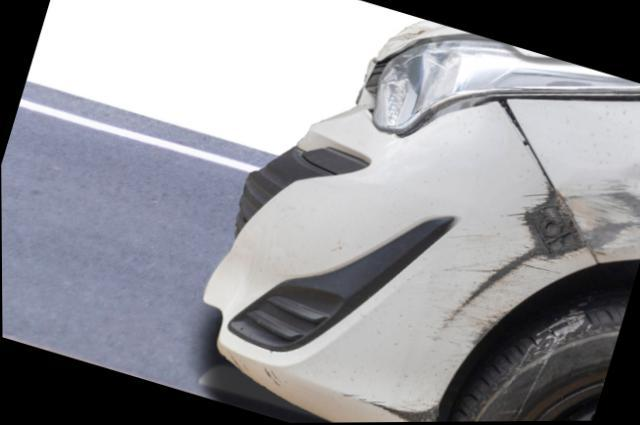scratch: (433, 179, 591, 346), (562, 165, 640, 251), (339, 394, 442, 423)
